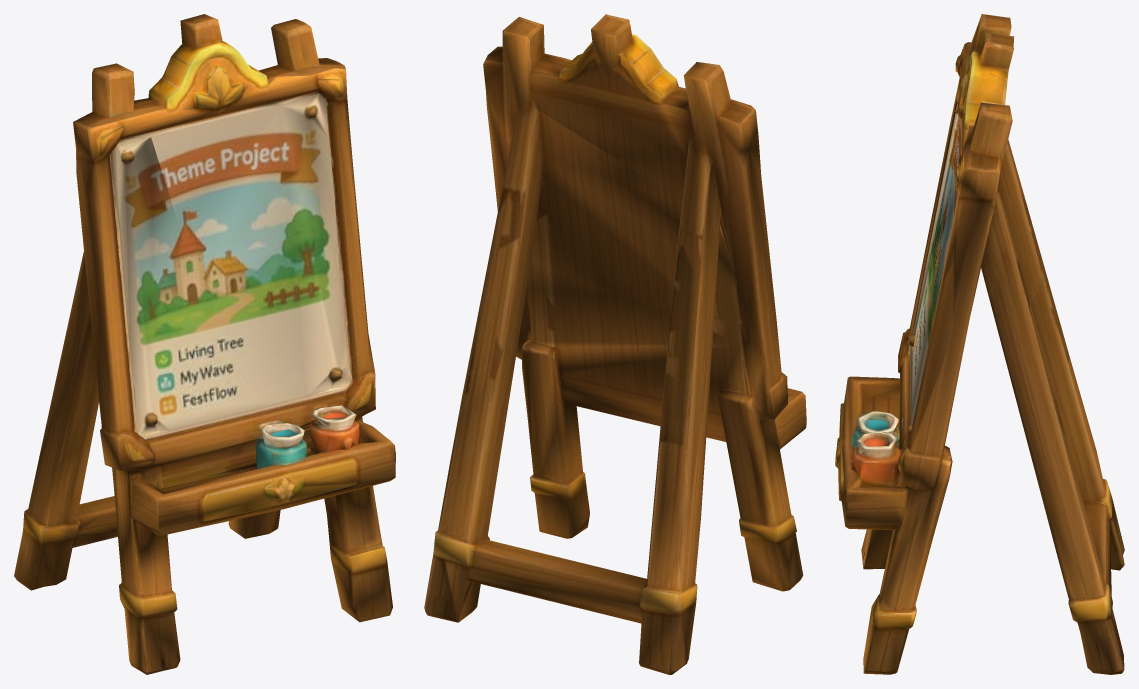
File: sign-theme-project.glb
3 views of the same model, side by side, from view 1: azimuth 30°, elevation 25°; view 2: azimuth 150°, elevation 25°; view 3: azimuth 270°, elevation 25° (orthographic).
Parts seen in each view (by area): view 1: Mesh1.0; view 2: Mesh1.0; view 3: Mesh1.0.
Part boxes in pixels (left/top/right/bottom): Mesh1.0: left=14, top=14, right=395, bottom=674; Mesh1.0: left=424, top=14, right=806, bottom=674; Mesh1.0: left=835, top=14, right=1124, bottom=674.
Bounding box in the file's own units: 0.8962 × 1.9 × 0.8626.
Materials: 1 (1 with a texture image).
